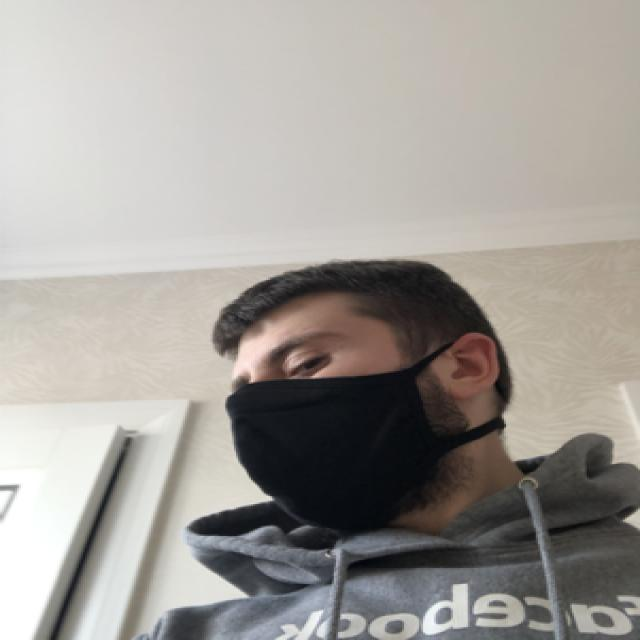mask: (230, 318, 426, 532)
